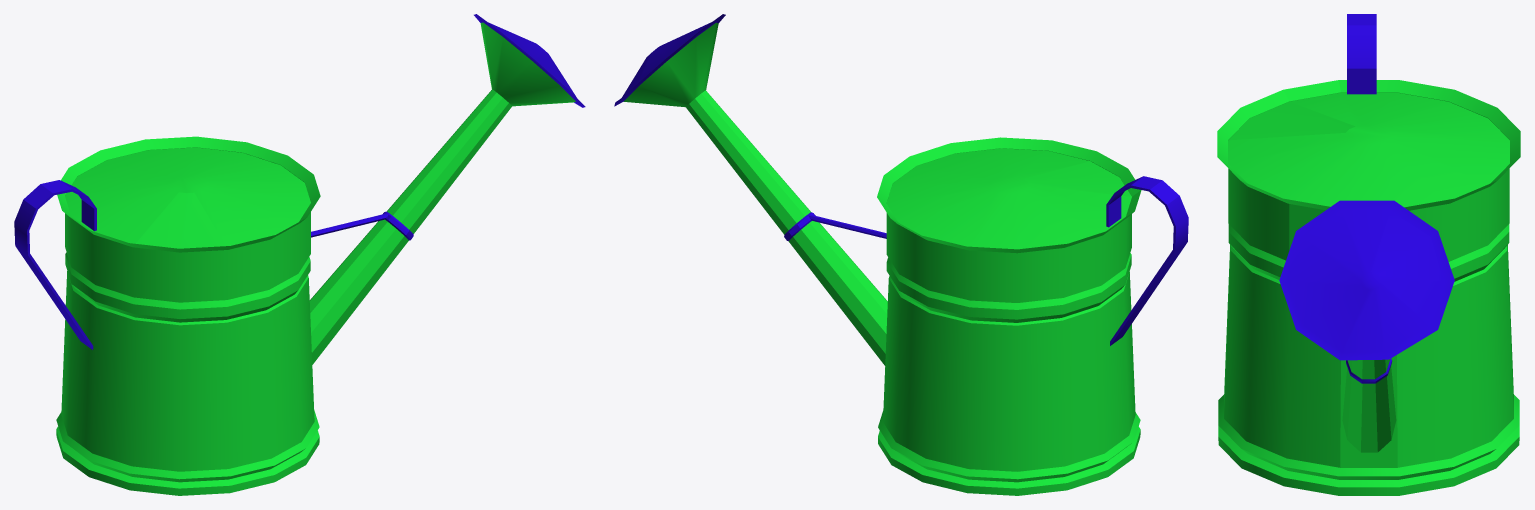
The model's file is Watercan4.fbx.
3 renders of one model, left to right at view 1: azimuth 30°, elevation 25°; view 2: azimuth 150°, elevation 25°; view 3: azimuth 270°, elevation 25°, orthographic. The views are drawn at different scales.
Parts seen in each view (by area): view 1: Body; view 2: Body; view 3: Body.
Part boxes in pixels (x1=…): Body: x1=14, y1=14, x2=585, y2=495; Body: x1=614, y1=14, x2=1188, y2=495; Body: x1=1217, y1=14, x2=1520, y2=495.
Size of the model in its own units: 507 by 300 by 206.
